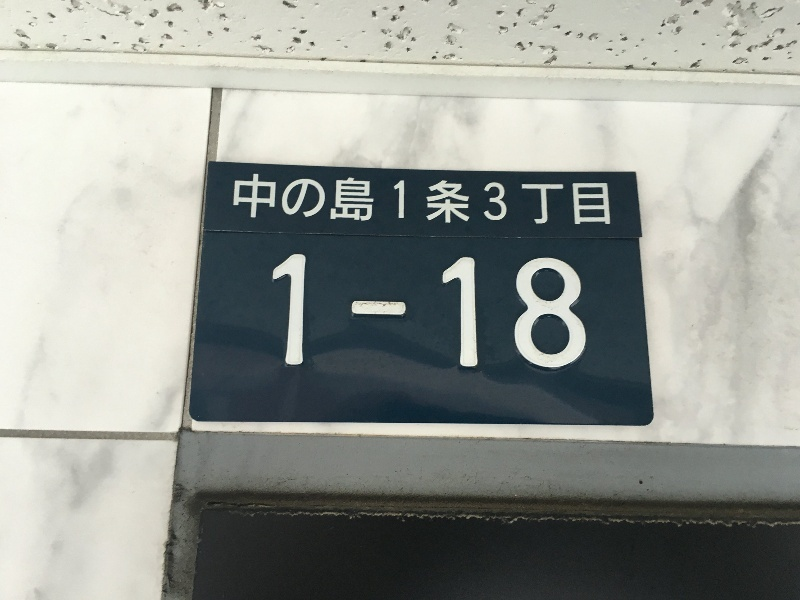text: (273, 255, 288, 372), (289, 255, 304, 372), (305, 255, 320, 372), (321, 255, 336, 372), (337, 255, 352, 372), (353, 255, 368, 372), (369, 255, 384, 372), (385, 255, 400, 372), (401, 255, 416, 372), (417, 255, 432, 372), (433, 255, 448, 372), (449, 255, 464, 372), (465, 255, 480, 372), (481, 255, 496, 372), (497, 255, 512, 372), (513, 255, 528, 372), (529, 255, 544, 372), (545, 255, 560, 372), (561, 255, 576, 372), (577, 255, 586, 372), (241, 176, 256, 228), (257, 176, 272, 228), (273, 176, 288, 228), (289, 176, 304, 228), (305, 176, 320, 228), (321, 176, 336, 228), (337, 176, 352, 228), (353, 176, 368, 228), (369, 176, 384, 228), (385, 176, 400, 228), (401, 176, 416, 228), (417, 176, 432, 228), (433, 176, 448, 228), (449, 176, 464, 228), (465, 176, 480, 228), (481, 176, 496, 228), (497, 176, 512, 228), (513, 176, 528, 228), (529, 176, 544, 228), (545, 176, 560, 228), (561, 176, 576, 228), (577, 176, 592, 228), (593, 176, 608, 228), (234, 176, 240, 228), (609, 176, 613, 228), (271, 255, 272, 372)
